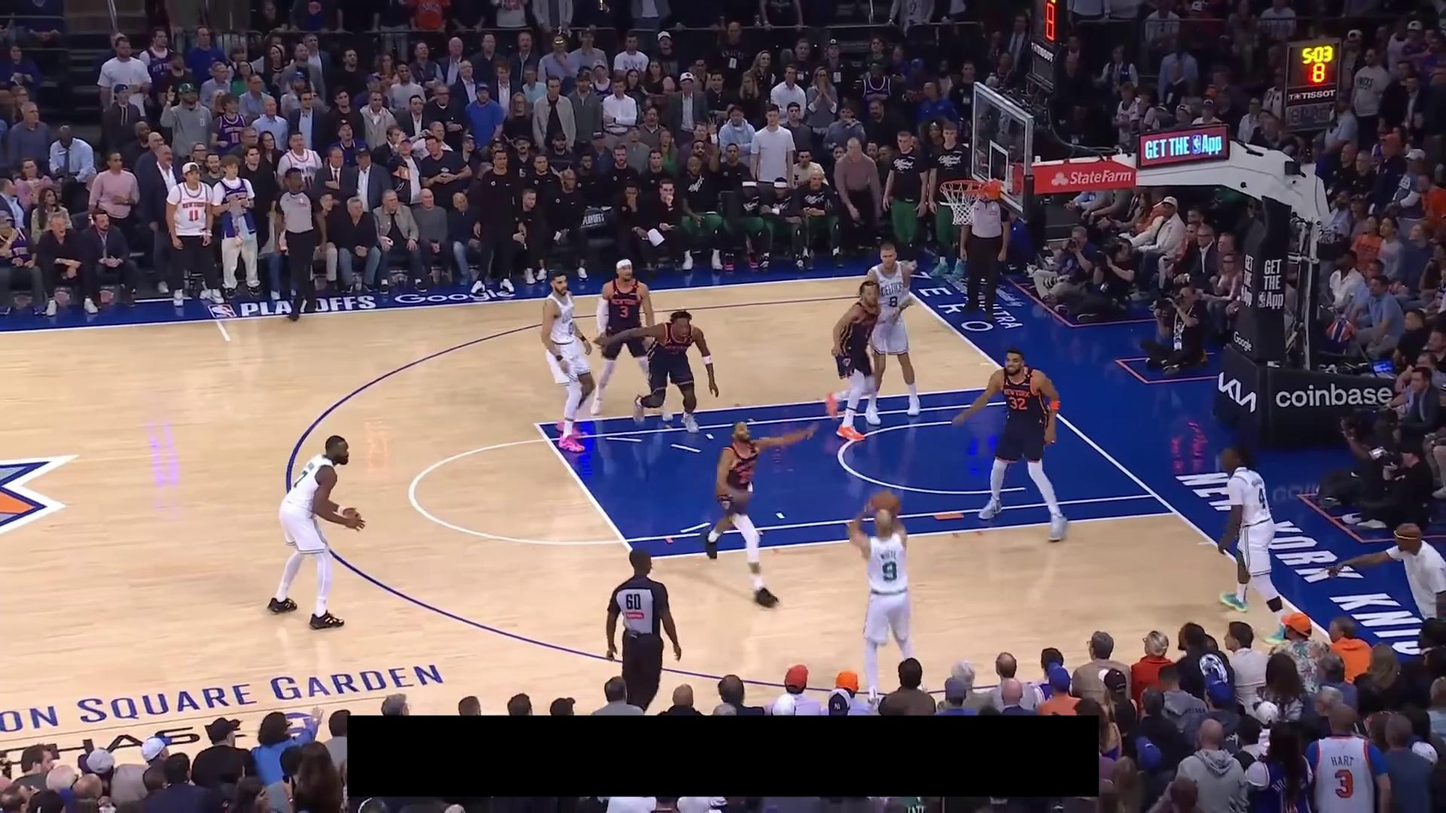ball: (871, 488, 899, 512)
number: (882, 560, 898, 582), (1008, 395, 1027, 411), (293, 469, 308, 488), (1257, 488, 1267, 510), (887, 294, 899, 310), (619, 304, 630, 319)
player: (697, 413, 826, 609), (950, 344, 1072, 544), (264, 433, 367, 631), (1216, 441, 1297, 647), (593, 309, 721, 437), (590, 256, 672, 421), (856, 239, 923, 425), (538, 266, 599, 454), (822, 279, 887, 445)
player-jump-shot: (847, 487, 924, 708)
referee: (605, 547, 682, 714), (271, 167, 328, 322), (958, 180, 1011, 321)
rim: (939, 179, 986, 193)
